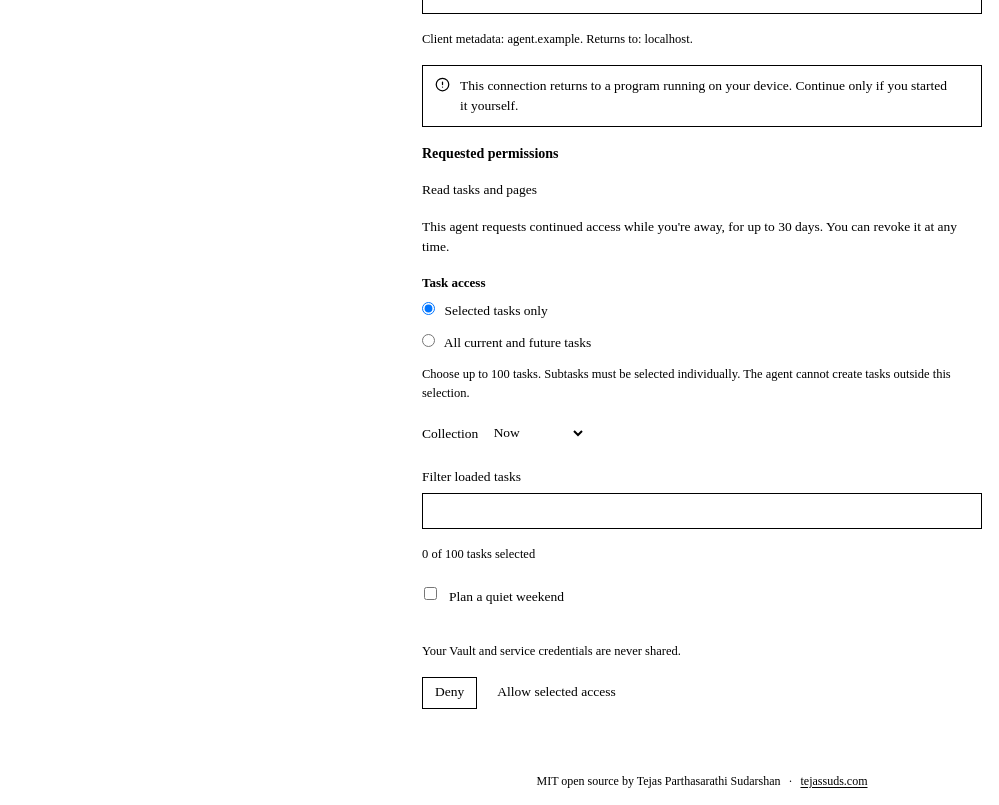
Scenario: owner-only OAuth consent › explains a consumed one-time redirect instead of guessing a code
(page scrolled)
Click the button "Deny". click: (450,692)
box: left=422, top=676, right=477, bottom=708
(page scrolled)
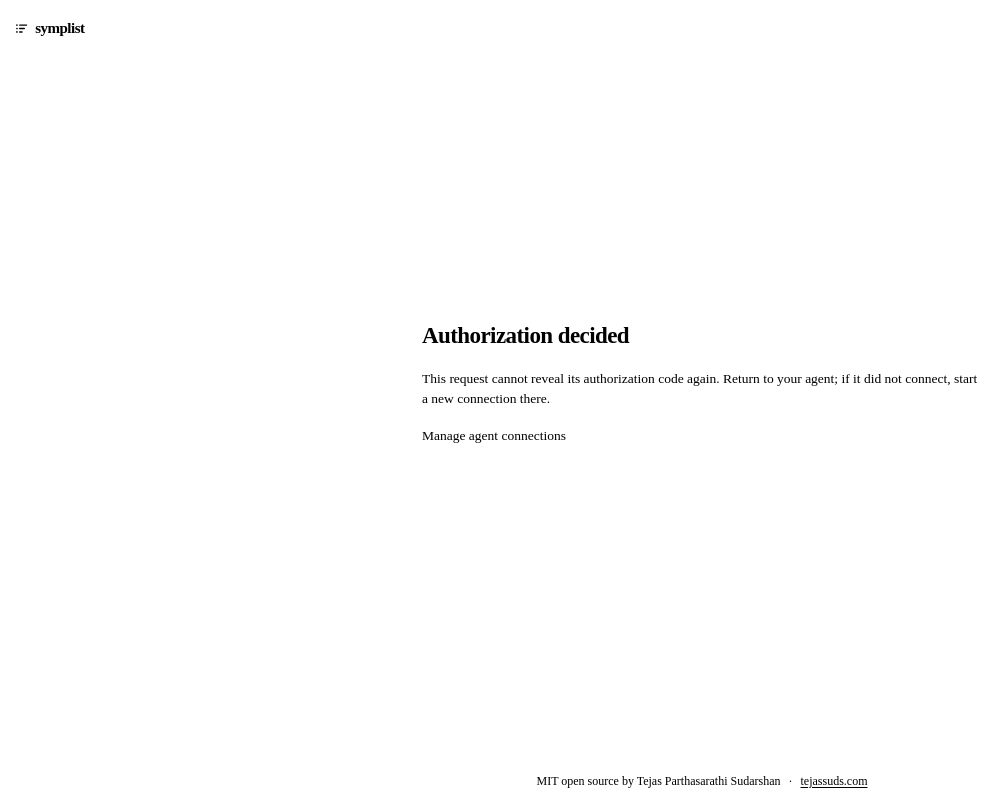
Check: the text "cannot reveal its authorization code again" is shown, box left=422, top=371, right=977, bottom=406
